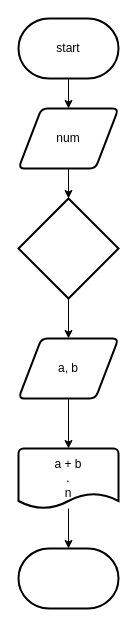
This 136x626 diagram has some shape labels left out. Here are the shapes that lost their labels. From the top down, the box of each, then its label:
(17, 197, 119, 299): i = range(num)
(17, 547, 119, 609): finish
